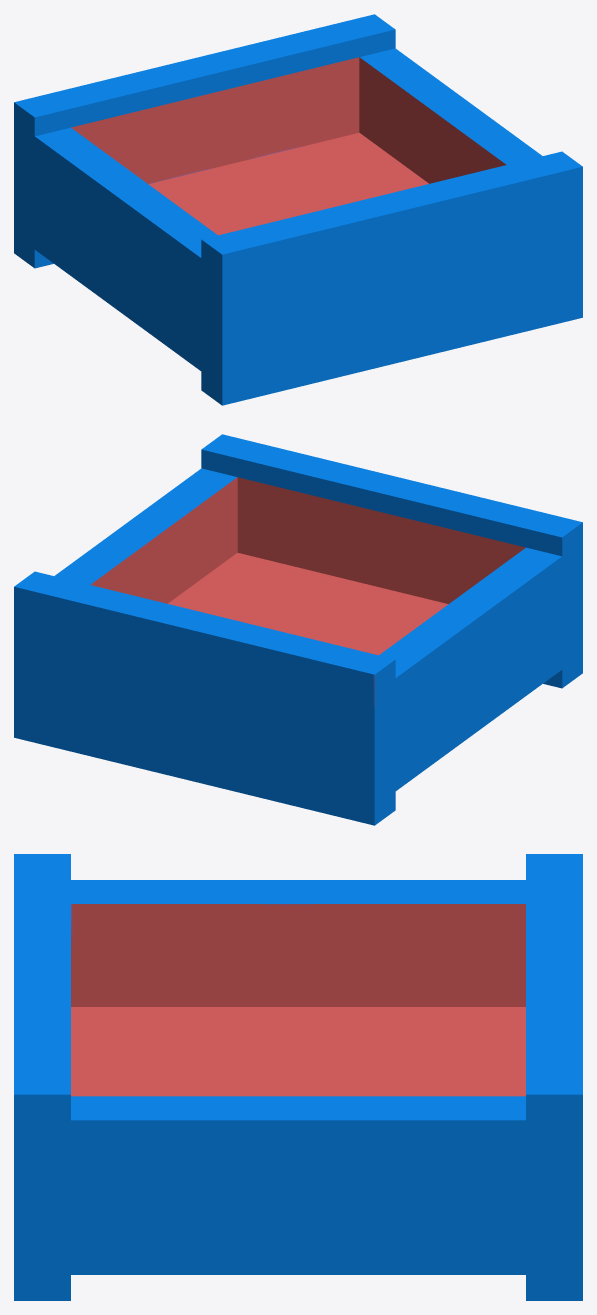
The model's file is conveyor 5.fbx.
The picture shows the model from 3 angles, top to bottom: view 1: azimuth 30°, elevation 25°; view 2: azimuth 150°, elevation 25°; view 3: azimuth 270°, elevation 25°; orthographic projection. The views are drawn at different scales.
Parts seen in each view (by area): view 1: Conveyor.006; view 2: Conveyor.006; view 3: Conveyor.006.
Boxes of the visible parts, <box> form: Conveyor.006: <box>14,14,582,405</box>; Conveyor.006: <box>14,434,582,825</box>; Conveyor.006: <box>14,854,582,1300</box>.
Bounding box in the file's own units: 200 × 80 × 200.
1 material, 1 textured.
